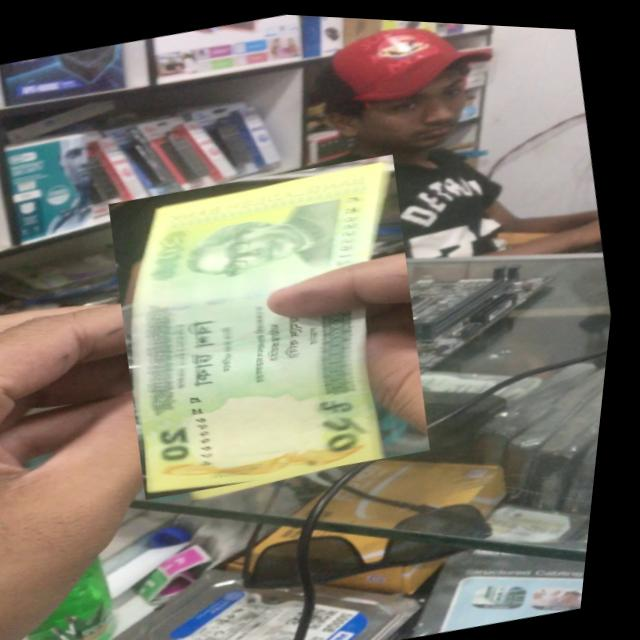Taka: (89, 139, 463, 509)
